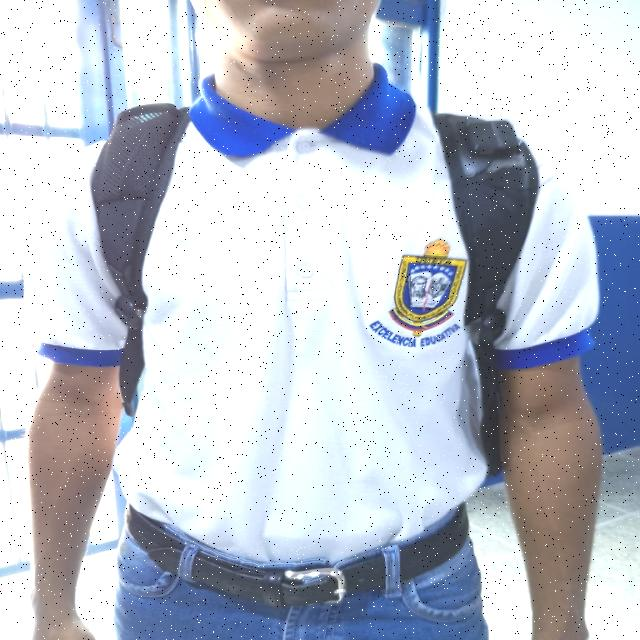uniforme_superior: (26, 61, 598, 565)
